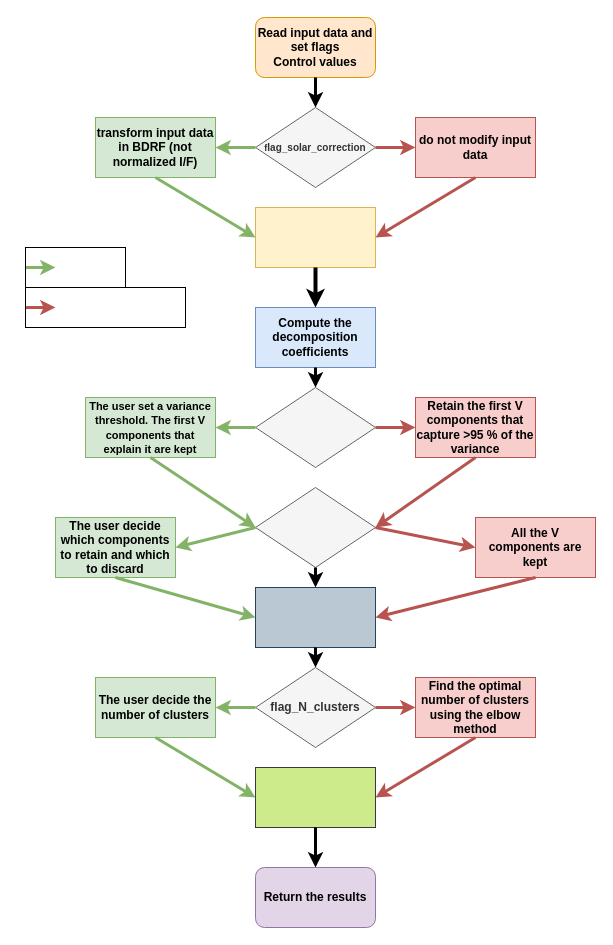
The diagram is 613 pixels wide and 945 high, and some of its shapes have lost their labels. Each missing label, with the box of its shape:
Build the coefficients density distribution: (254, 586, 376, 648)
False (default): (24, 286, 186, 328)
flag_GMM: (254, 486, 376, 568)
flag_PCA: (254, 386, 376, 468)
Perform GMM on the PCA coefficients: (254, 766, 376, 828)
Perform PCA: (254, 206, 376, 268)
True: (24, 246, 126, 288)
